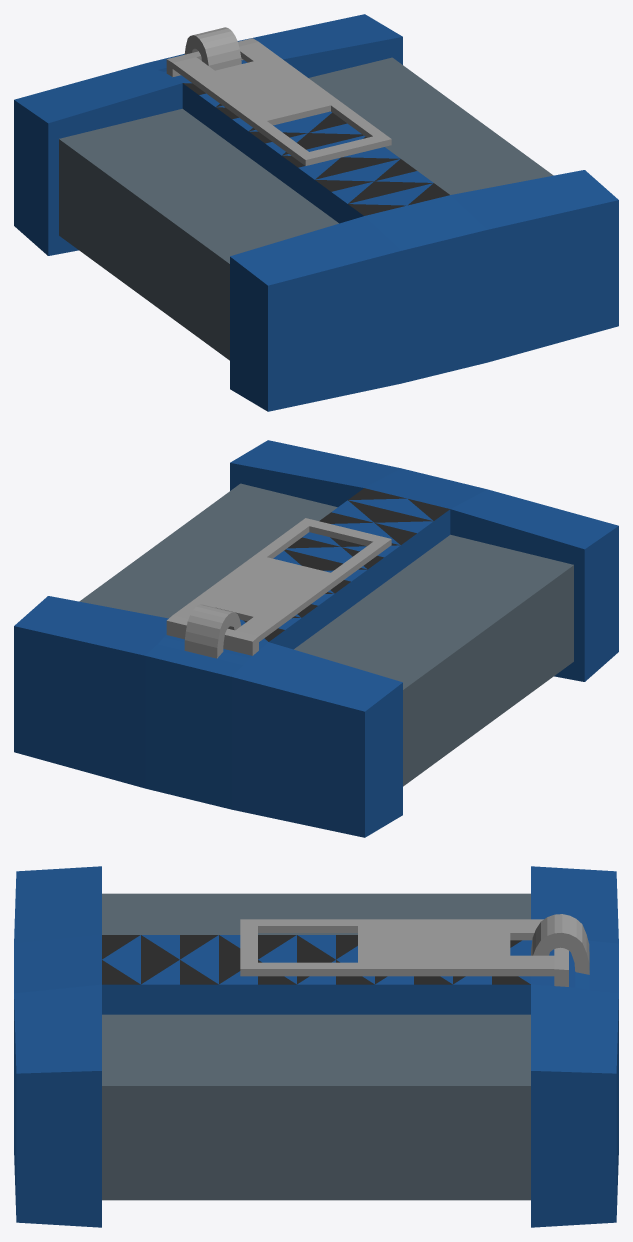
Rendered from Zip_M.fbx.
3 views of the same model, one above another, from view 1: azimuth 30°, elevation 25°; view 2: azimuth 150°, elevation 25°; view 3: azimuth 270°, elevation 25° (orthographic). The views are drawn at different scales.
Parts seen in each view (by area): view 1: Zip_M; view 2: Zip_M; view 3: Zip_M.
Part boxes in pixels (box(x1,y1,x2,y2)): Zip_M: box(14, 14, 618, 411); Zip_M: box(14, 440, 618, 837); Zip_M: box(14, 866, 618, 1227).
Bounding box in the file's own units: 40 × 19.23 × 50.
